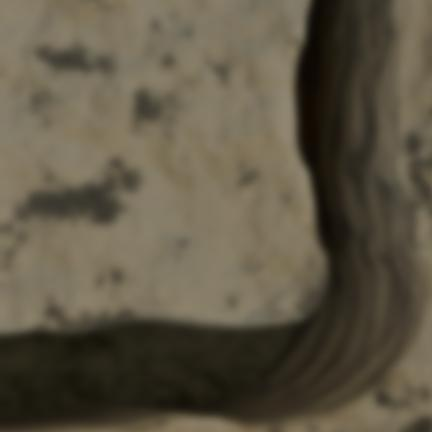crack: (0, 0, 431, 431), (0, 0, 68, 44)
